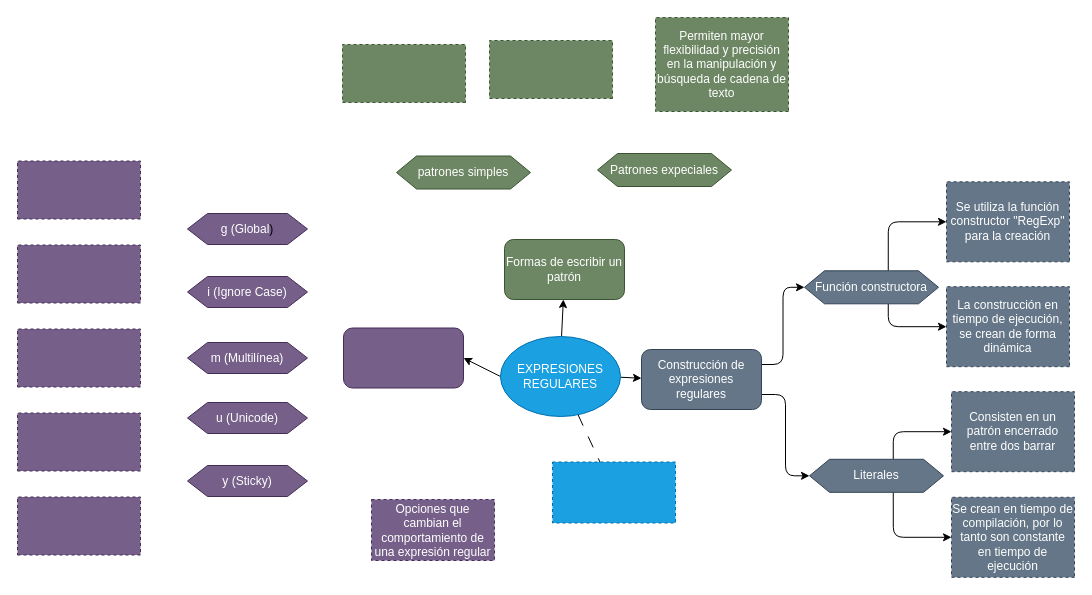
The diagram is 1092 pixels wide and 595 high, and some of its shapes have lost their labels. The centre of each missing label's shape, as x and y in pixels:
Buscan todas las coincidencia del patrón en la cadena: the point at 78,189
Coincide con una cade exacta: the point at 404,73
Ignoran las mayúsculas y minúsculas en la búsqueda: the point at 78,273
La búsqueda inicia en la posición especificada por "lastIndex": the point at 78,525
Modificadores de expresiones regulares: the point at 403,357
Permiten la coincidencia de caracteres multibyte: the point at 78,441
Secuencia de caracteres que definen un patrón de búsqueda: the point at 614,492
Tratan el inicio "^" y el final "$" de una línea como posiciones en la cadena: the point at 78,357
Usan caracteres especiales: the point at 550,69
